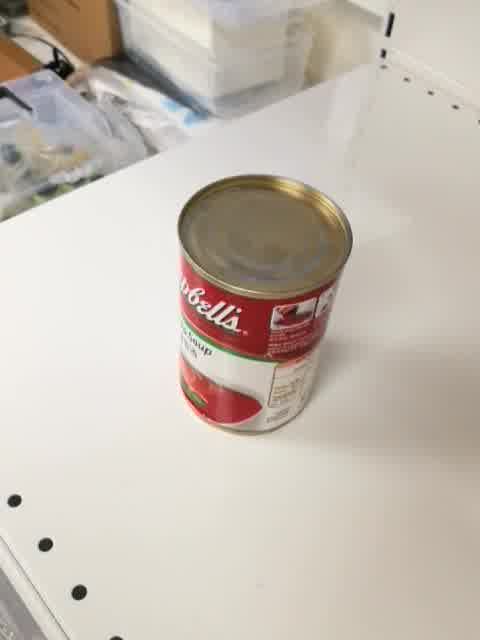tomatosoup: (173, 169, 355, 436)
